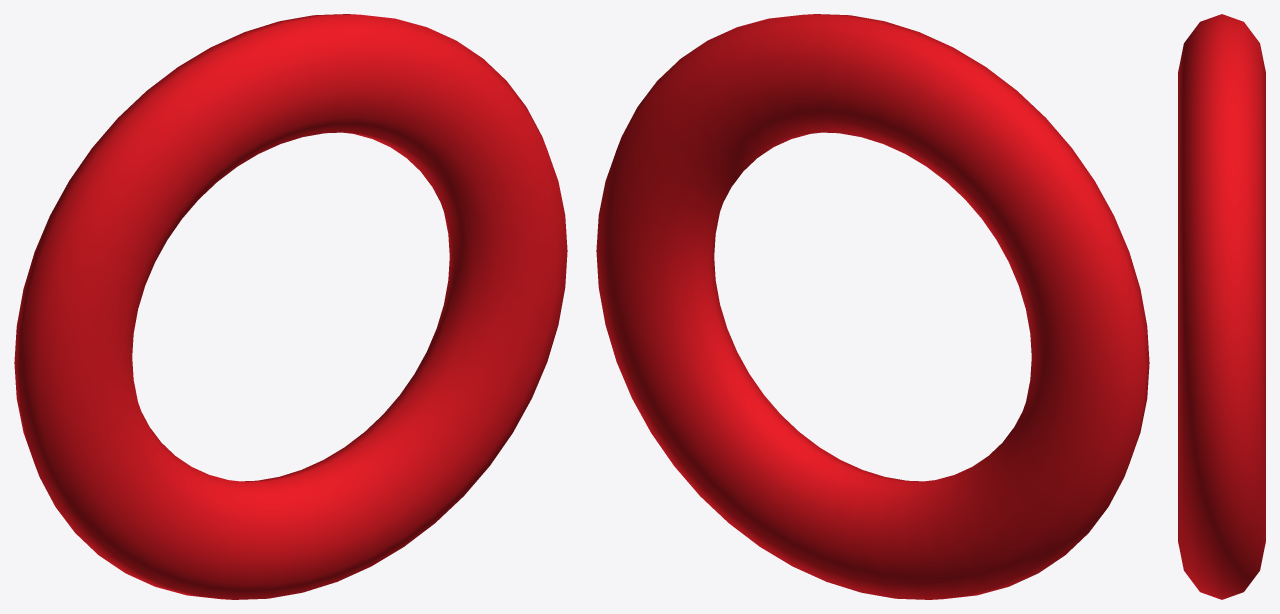
Rendered from red_circle.glb.
The picture shows the model from 3 angles, left to right: view 1: azimuth 30°, elevation 25°; view 2: azimuth 150°, elevation 25°; view 3: azimuth 270°, elevation 25°; orthographic projection. The views are drawn at different scales.
Visible parts, largest first — view 1: 环体; view 2: 环体; view 3: 环体.
Part boxes in pixels (x1=…): 环体: x1=14, y1=14, x2=567, y2=599; 环体: x1=596, y1=14, x2=1149, y2=599; 环体: x1=1178, y1=14, x2=1265, y2=599.
Bounding box in the file's own units: 2 × 2 × 0.3.
